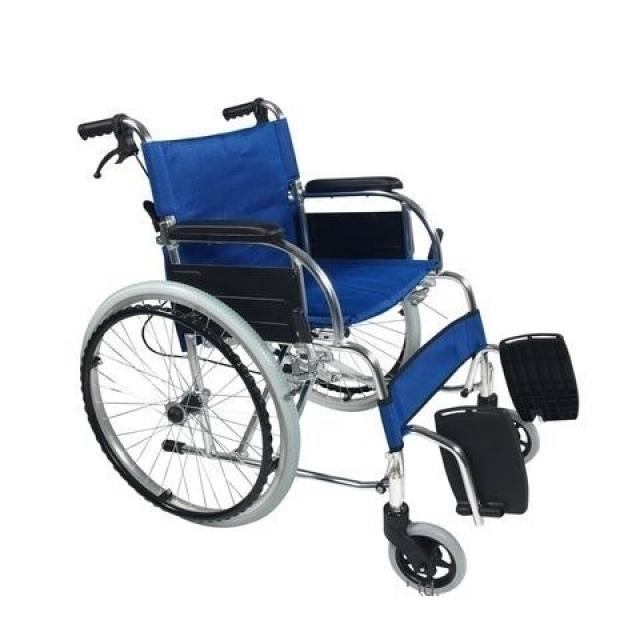wheelchair: (64, 86, 602, 603)
